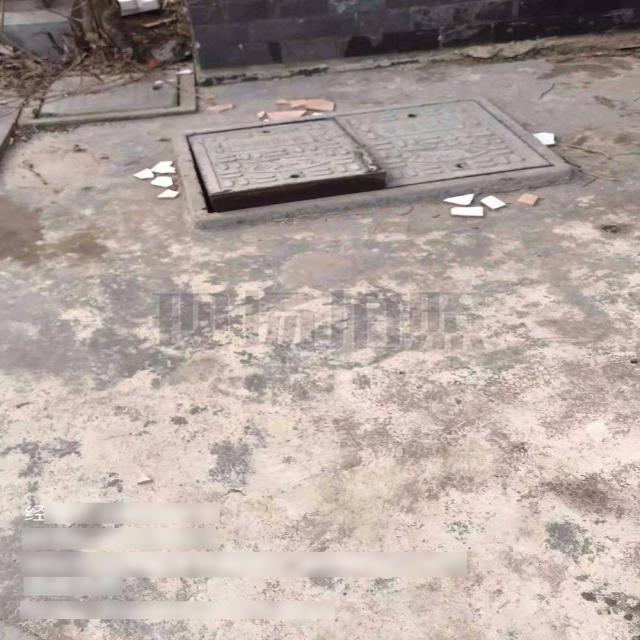Faulty: (171, 96, 574, 228)
Good: (18, 60, 198, 123)
